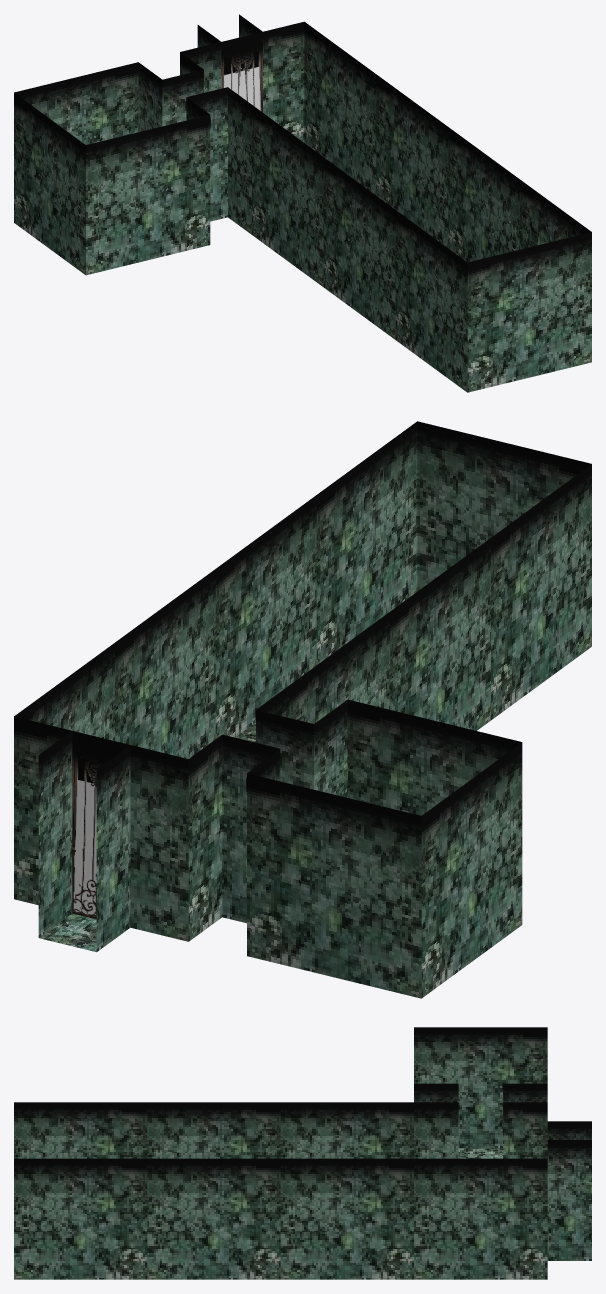
The model's file is room001.fbx.
3 renders of one model, top to bottom at view 1: azimuth 30°, elevation 25°; view 2: azimuth 150°, elevation 25°; view 3: azimuth 270°, elevation 25°, orthographic. The views are drawn at different scales.
Parts seen in each view (by area): view 1: wall, gate; view 2: wall, gate, ground; view 3: wall, ground.
Boxes of the visible parts, left/top/right/bottom form: wall: left=14, top=14, right=591, bottom=392; gate: left=221, top=32, right=262, bottom=112; wall: left=14, top=421, right=591, bottom=998; gate: left=72, top=731, right=129, bottom=919; ground: left=39, top=722, right=255, bottom=951; wall: left=14, top=1027, right=591, bottom=1279; ground: left=458, top=1148, right=502, bottom=1158.
Bounding box in the file's own units: 350 × 150 × 650.
